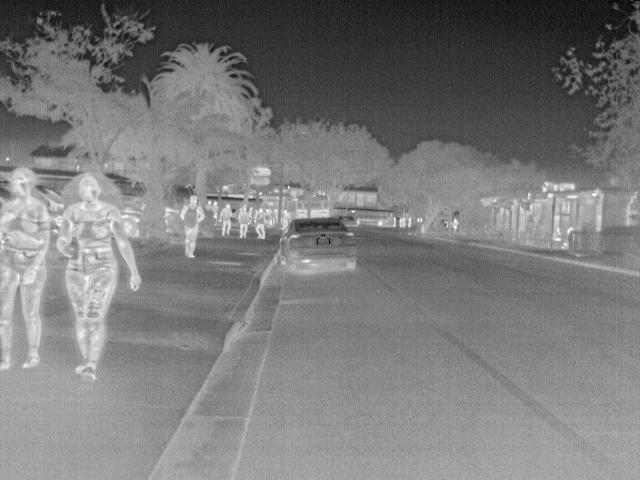car: (277, 219, 358, 278), (168, 206, 188, 234)
person: (56, 174, 143, 382), (1, 167, 50, 375), (180, 195, 206, 259), (252, 208, 271, 239), (220, 204, 235, 236), (239, 207, 252, 236), (449, 214, 462, 234), (552, 225, 566, 242)
